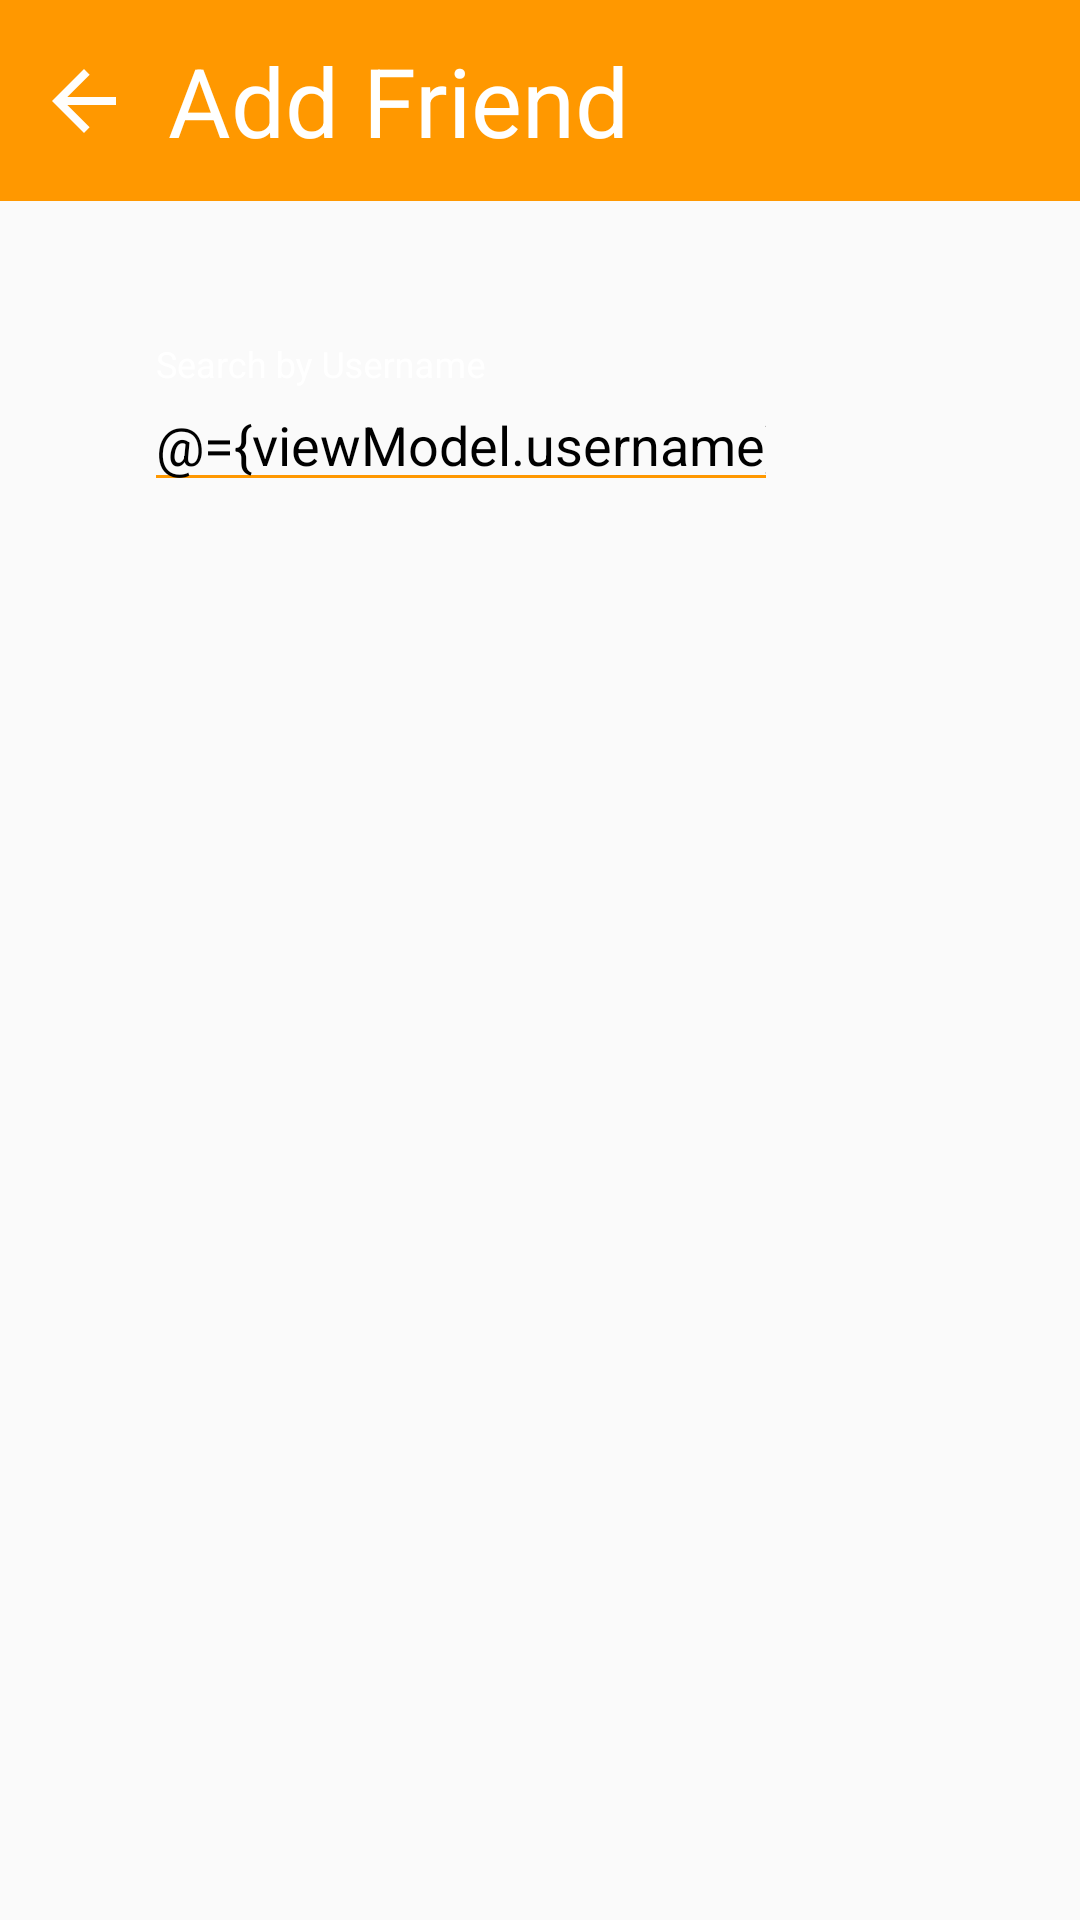

Icon click points for this 1080*1920 phone screenshot, format (x,y):
arrow back: (84,101)
